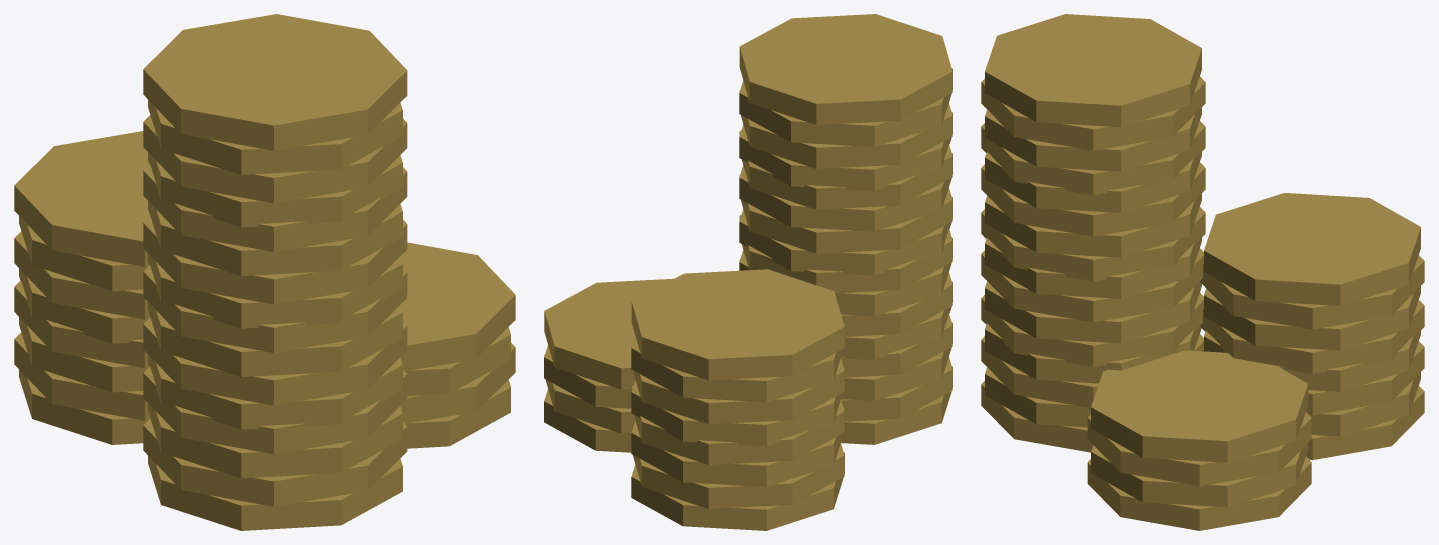
File: coins.fbx
3 renders of one model, left to right at view 1: azimuth 30°, elevation 25°; view 2: azimuth 150°, elevation 25°; view 3: azimuth 270°, elevation 25°, orthographic. The views are drawn at different scales.
Parts seen in each view (by area): view 1: Circle.024; view 2: Circle.024; view 3: Circle.024.
Boxes of the visible parts, <box> form: Circle.024: <box>14,14,515,530</box>; Circle.024: <box>544,14,952,530</box>; Circle.024: <box>981,14,1424,530</box>.
Size of the model in its own units: 349 by 347 by 395.
